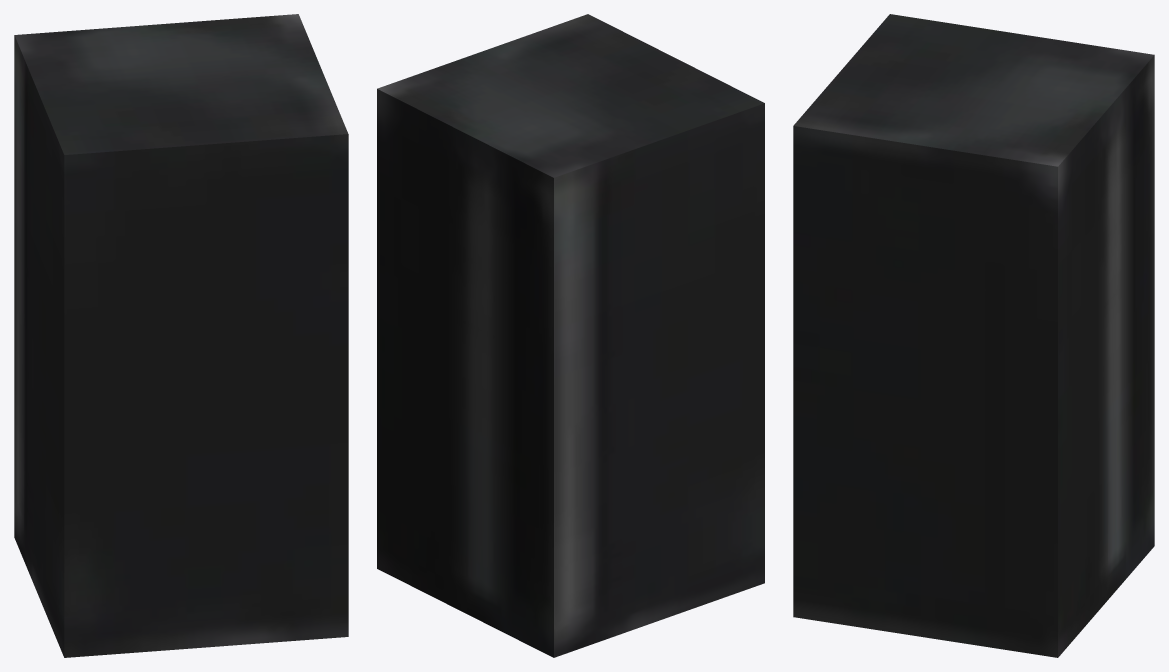
The model's file is center_frame__rack_tooth_1.glb.
3 views of the same model, side by side, from view 1: azimuth 30°, elevation 25°; view 2: azimuth 150°, elevation 25°; view 3: azimuth 270°, elevation 25° (orthographic). The views are drawn at different scales.
Parts seen in each view (by area): view 1: world; view 2: world; view 3: world.
Part boxes in pixels (left/top/right/bottom): world: left=14, top=14, right=348, bottom=657; world: left=377, top=14, right=764, bottom=657; world: left=793, top=14, right=1154, bottom=657.
Size of the model in its own units: 0.0333 by 0.05 by 0.0333.
Materials: 1 (1 with a texture image).
